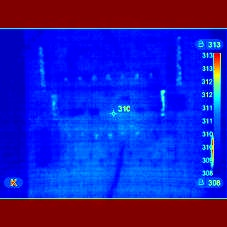Less: (105, 92, 173, 142)
